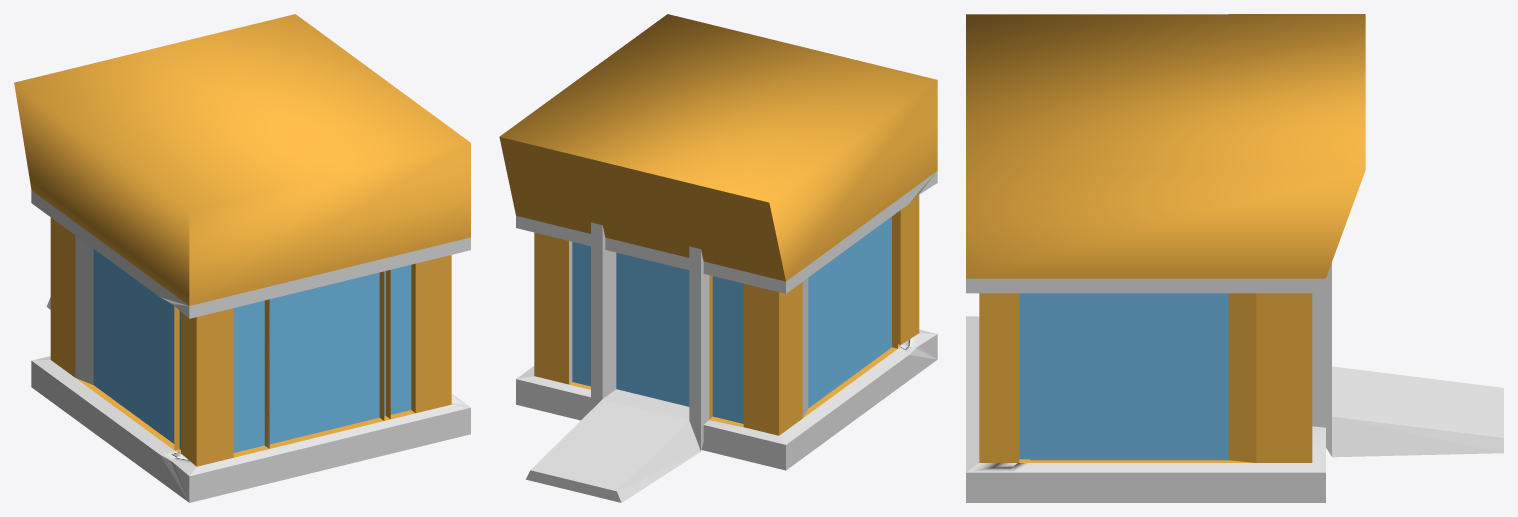
The model's file is Shop2x2x2Orange.fbx.
3 views of the same model, side by side, from view 1: azimuth 30°, elevation 25°; view 2: azimuth 150°, elevation 25°; view 3: azimuth 270°, elevation 25° (orthographic). The views are drawn at different scales.
Parts seen in each view (by area): view 1: Shop.002; view 2: Shop.002; view 3: Shop.002.
Part boxes in pixels (x1,y1,x2,y2): Shop.002: (14,14,470,502); Shop.002: (499,14,937,502); Shop.002: (966,14,1503,502).
Size of the model in its own units: 2 by 1.98 by 2.91.
1 material, 1 textured.
